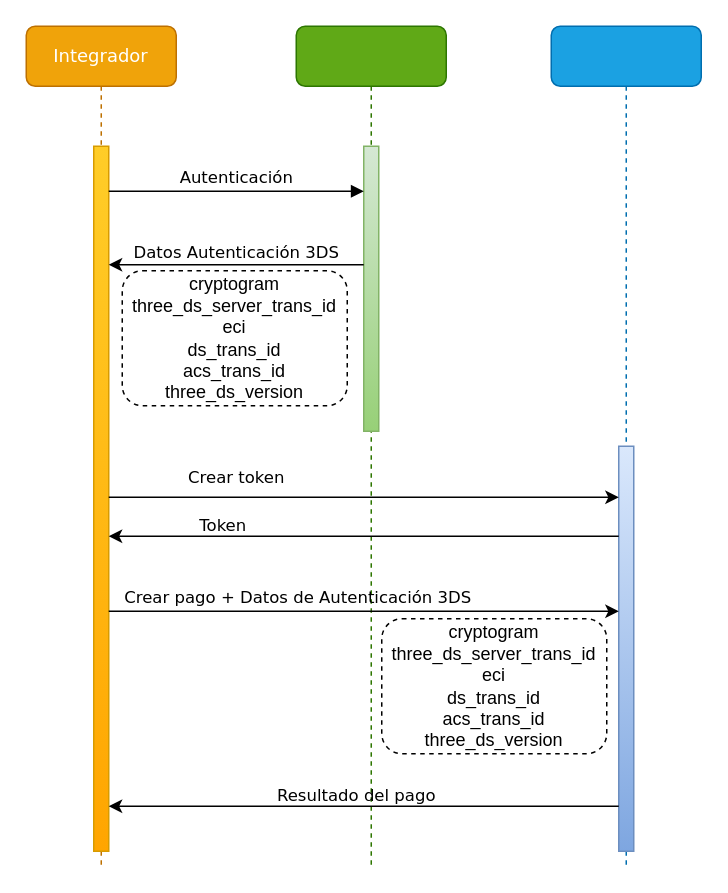
The diagram is 728 pixels wide and 893 high, and some of its shapes have lost their labels. The box of each missing label's shape, as (x1, y1, x2, y2) in pixels:
Mercado Pago: (550, 25, 701, 866)
Proveedor MPI: (295, 25, 446, 866)
